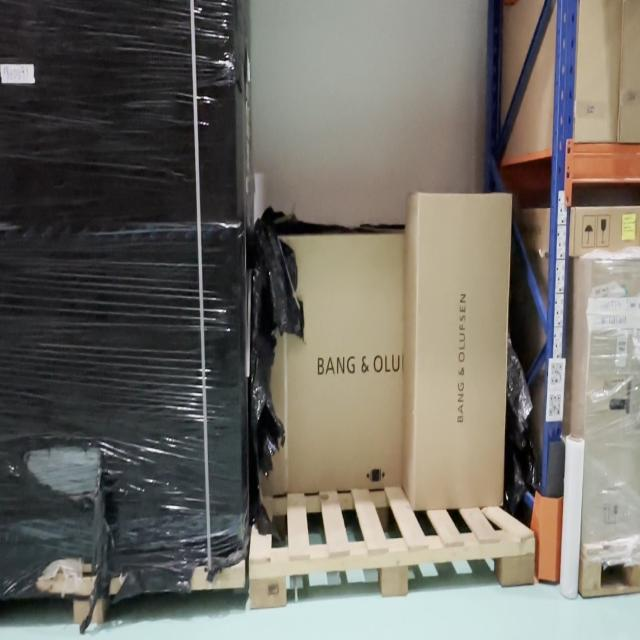box: (0, 0, 239, 568), (256, 234, 405, 490), (418, 193, 502, 506), (593, 258, 639, 539), (575, 207, 639, 250)
